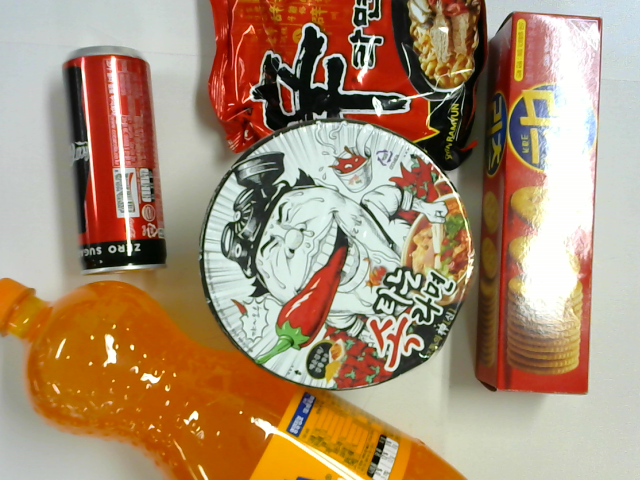Coca_Cola_Zero_Can_250ml: (59, 46, 170, 277)
HeJangsock: (195, 120, 477, 392)
Hwanta_Orange_1.5L: (1, 277, 465, 477)
Ritz_Cracker: (476, 10, 606, 403)
Sinramen: (206, 1, 490, 171)
